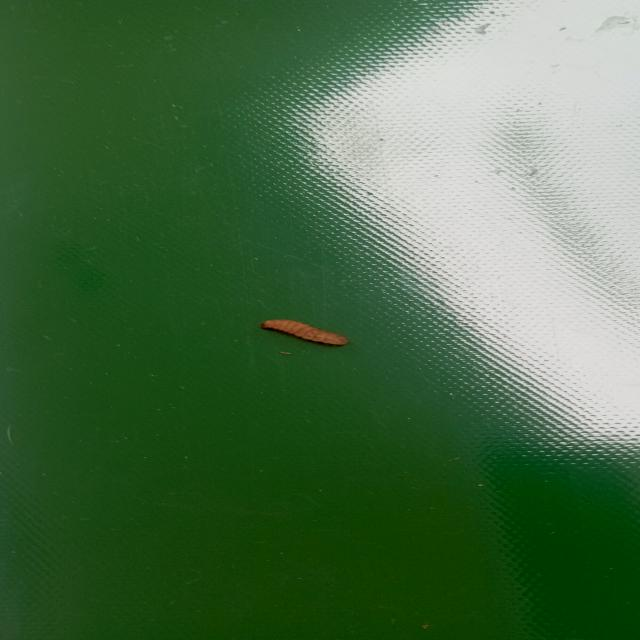Maggot: (261, 320, 349, 349)
